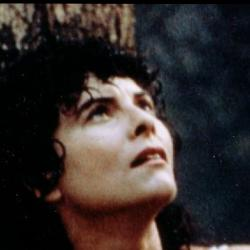face: (1, 12, 187, 233)
